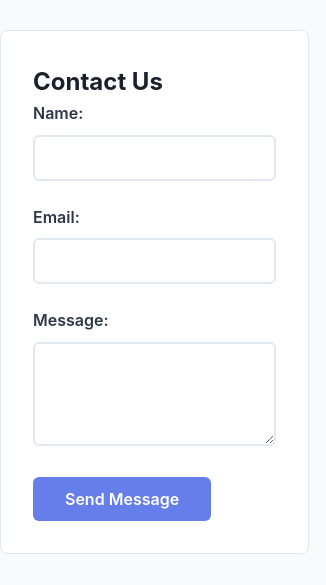
Test: ContactForm Component › validates email format correctly
// Fill form with invalid email
Step 1. Type "John Doe" into the field labelled "Name:" → [154, 158], box [33,135,276,181]
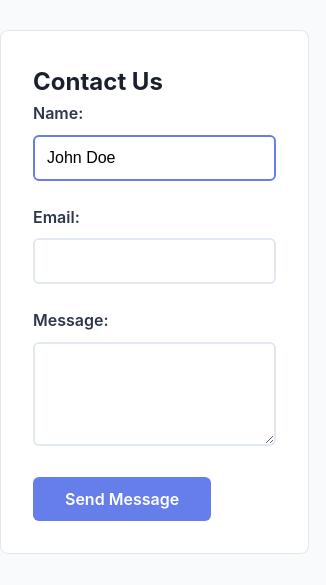
Step 2. Type "invalid-email" into the field labelled "Email:" → [154, 261], box [33,238,276,284]
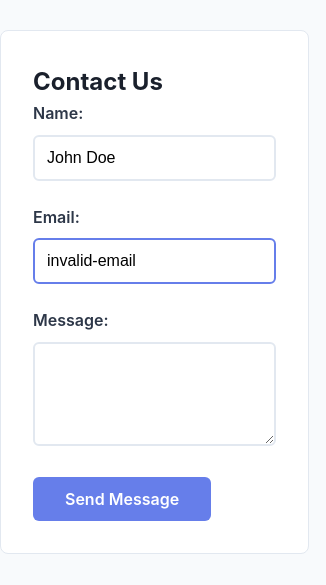
Step 3. Type "This is a valid message with enough characters" into the text box labelled "Message:" → [154, 394], box [33,342,276,446]
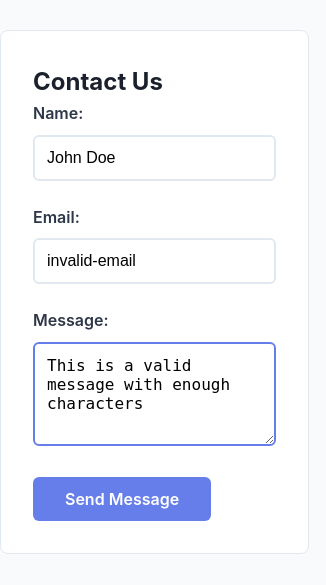
Step 4. Click the button "Send Message" → [122, 499], box [33,477,211,521]
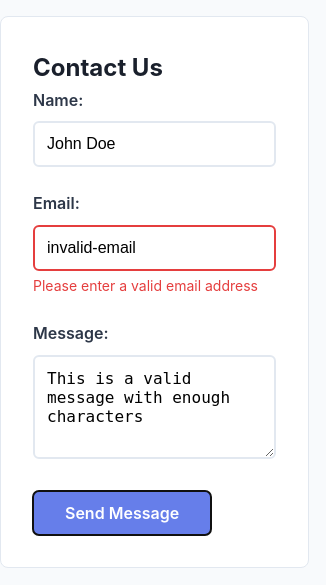
Check: the text "Please enter a valid email address" is shown, box [33,275,276,297]
